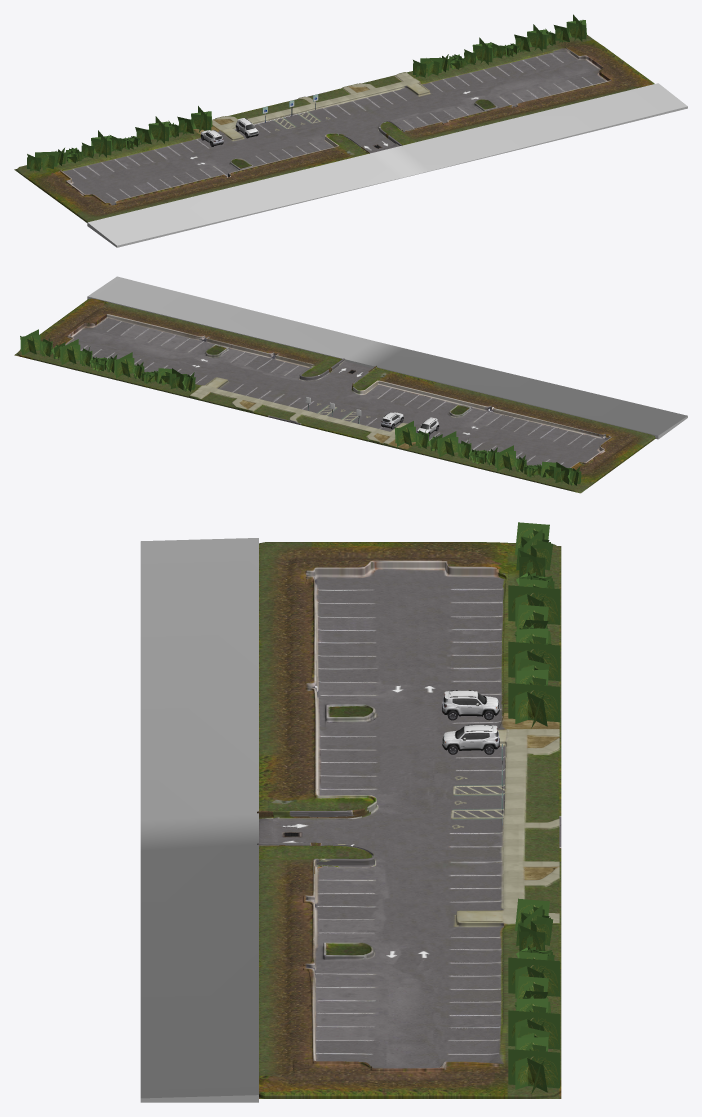
Rendered from estacionamientoPruebas.obj.
The picture shows the model from 3 angles, top to bottom: view 1: azimuth 30°, elevation 25°; view 2: azimuth 150°, elevation 25°; view 3: azimuth 270°, elevation 25°; orthographic projection. The views are drawn at different scales.
Parts seen in each view (by area): view 1: Estacionamiento; view 2: Estacionamiento; view 3: Estacionamiento.
Boxes of the visible parts, x1,y1,x2,y2 form: Estacionamiento: (14,14,687,247); Estacionamiento: (14,276,687,493); Estacionamiento: (140,522,561,1102).
Size of the model in its own units: 93.67 by 3.63 by 29.88.
